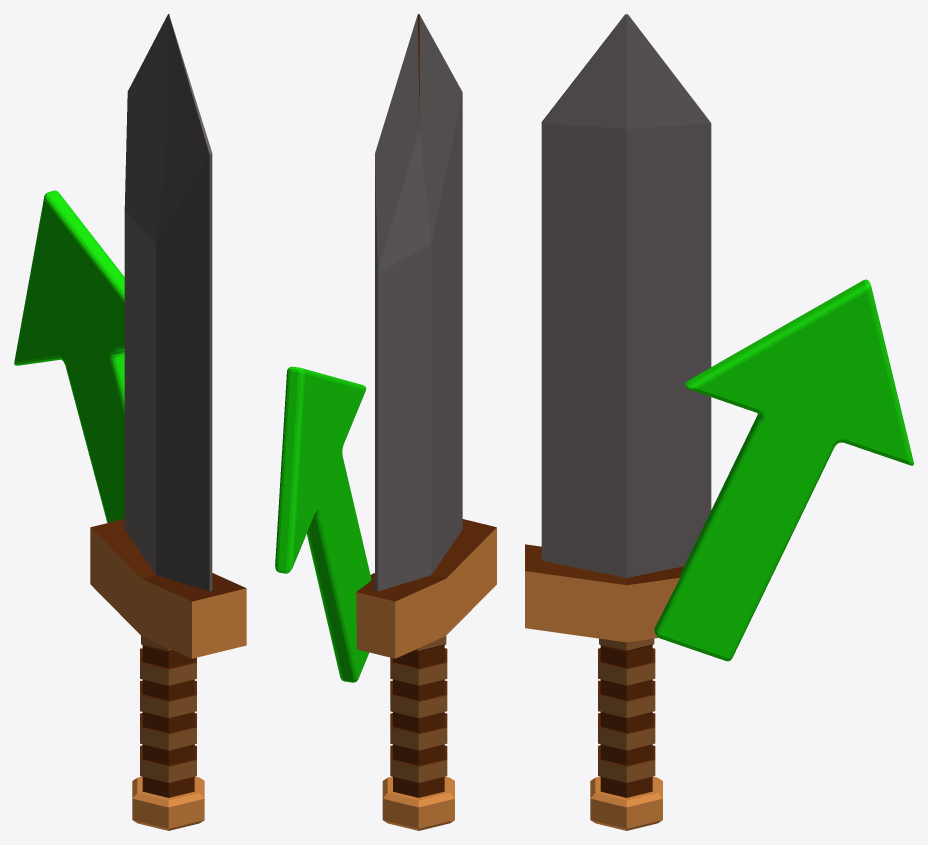
File: damageUp.fbx
The picture shows the model from 3 angles, left to right: view 1: azimuth 30°, elevation 25°; view 2: azimuth 150°, elevation 25°; view 3: azimuth 270°, elevation 25°; orthographic projection.
Visible parts, largest first — view 1: Cube, Vert.001; view 2: Cube, Vert.001; view 3: Cube, Vert.001.
Boxes of the visible parts, box(x1,y1,x2,y2) form: Cube: box(90, 14, 246, 830); Vert.001: box(14, 190, 124, 522); Cube: box(356, 14, 496, 830); Vert.001: box(275, 366, 371, 682); Cube: box(525, 14, 711, 830); Vert.001: box(654, 279, 913, 661).
Bounding box in the file's own units: 54.5 × 562 × 247.
